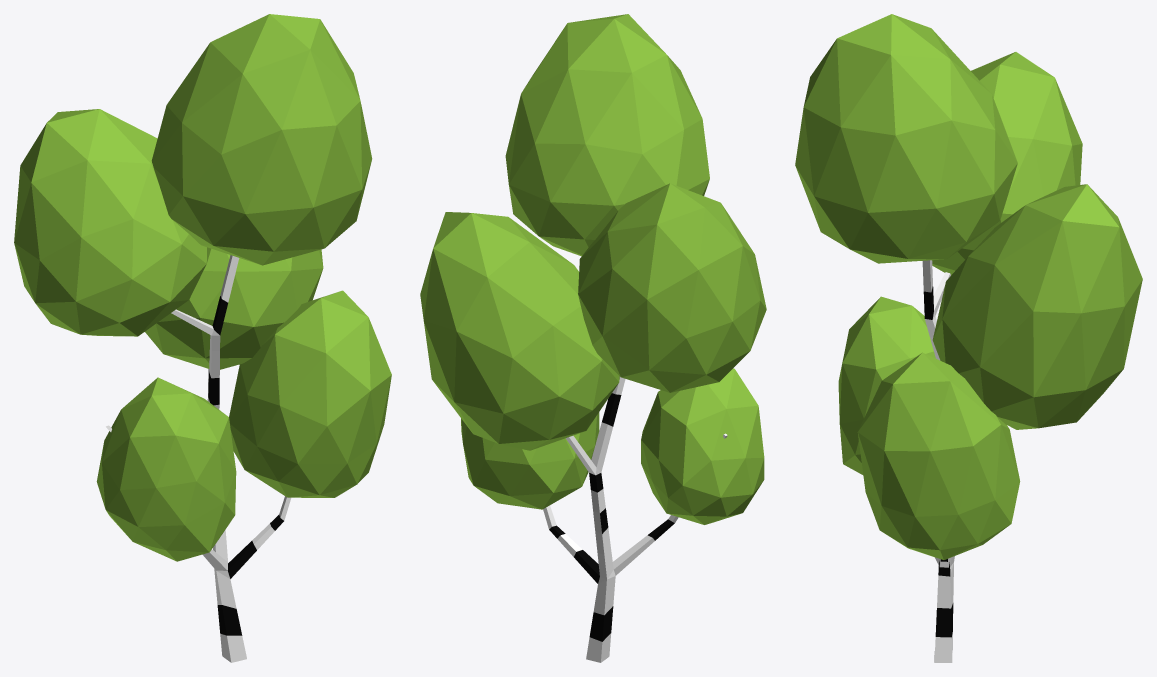
File: Bomen_Berk.fbx
The picture shows the model from 3 angles, left to right: view 1: azimuth 30°, elevation 25°; view 2: azimuth 150°, elevation 25°; view 3: azimuth 270°, elevation 25°; orthographic projection. The views are drawn at different scales.
Visible parts, largest first — view 1: Berk; view 2: Berk; view 3: Berk.
Boxes of the visible parts, x1,y1,x2,y2 form: Berk: (14, 14, 391, 662); Berk: (420, 14, 766, 662); Berk: (795, 14, 1142, 662).
Bounding box in the file's own units: 442 × 866 × 420.
